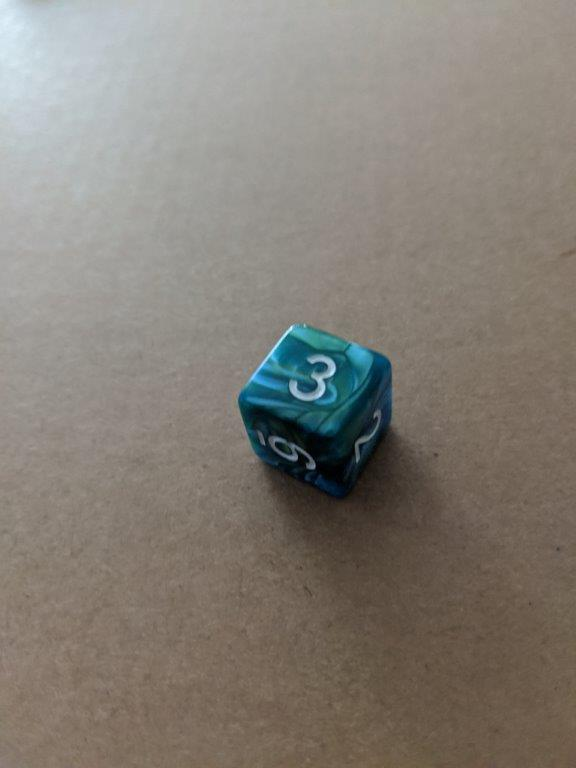d6-3: (234, 322, 392, 499)
